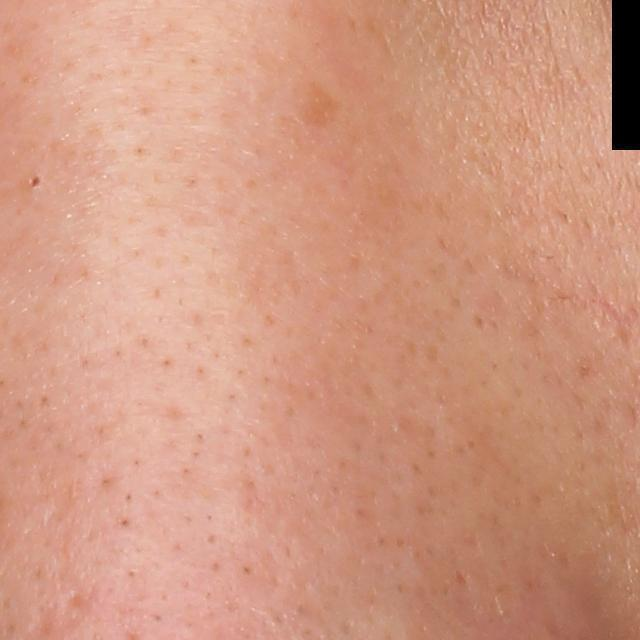comedo: (21, 168, 47, 195)
melasma: (296, 75, 346, 133)
